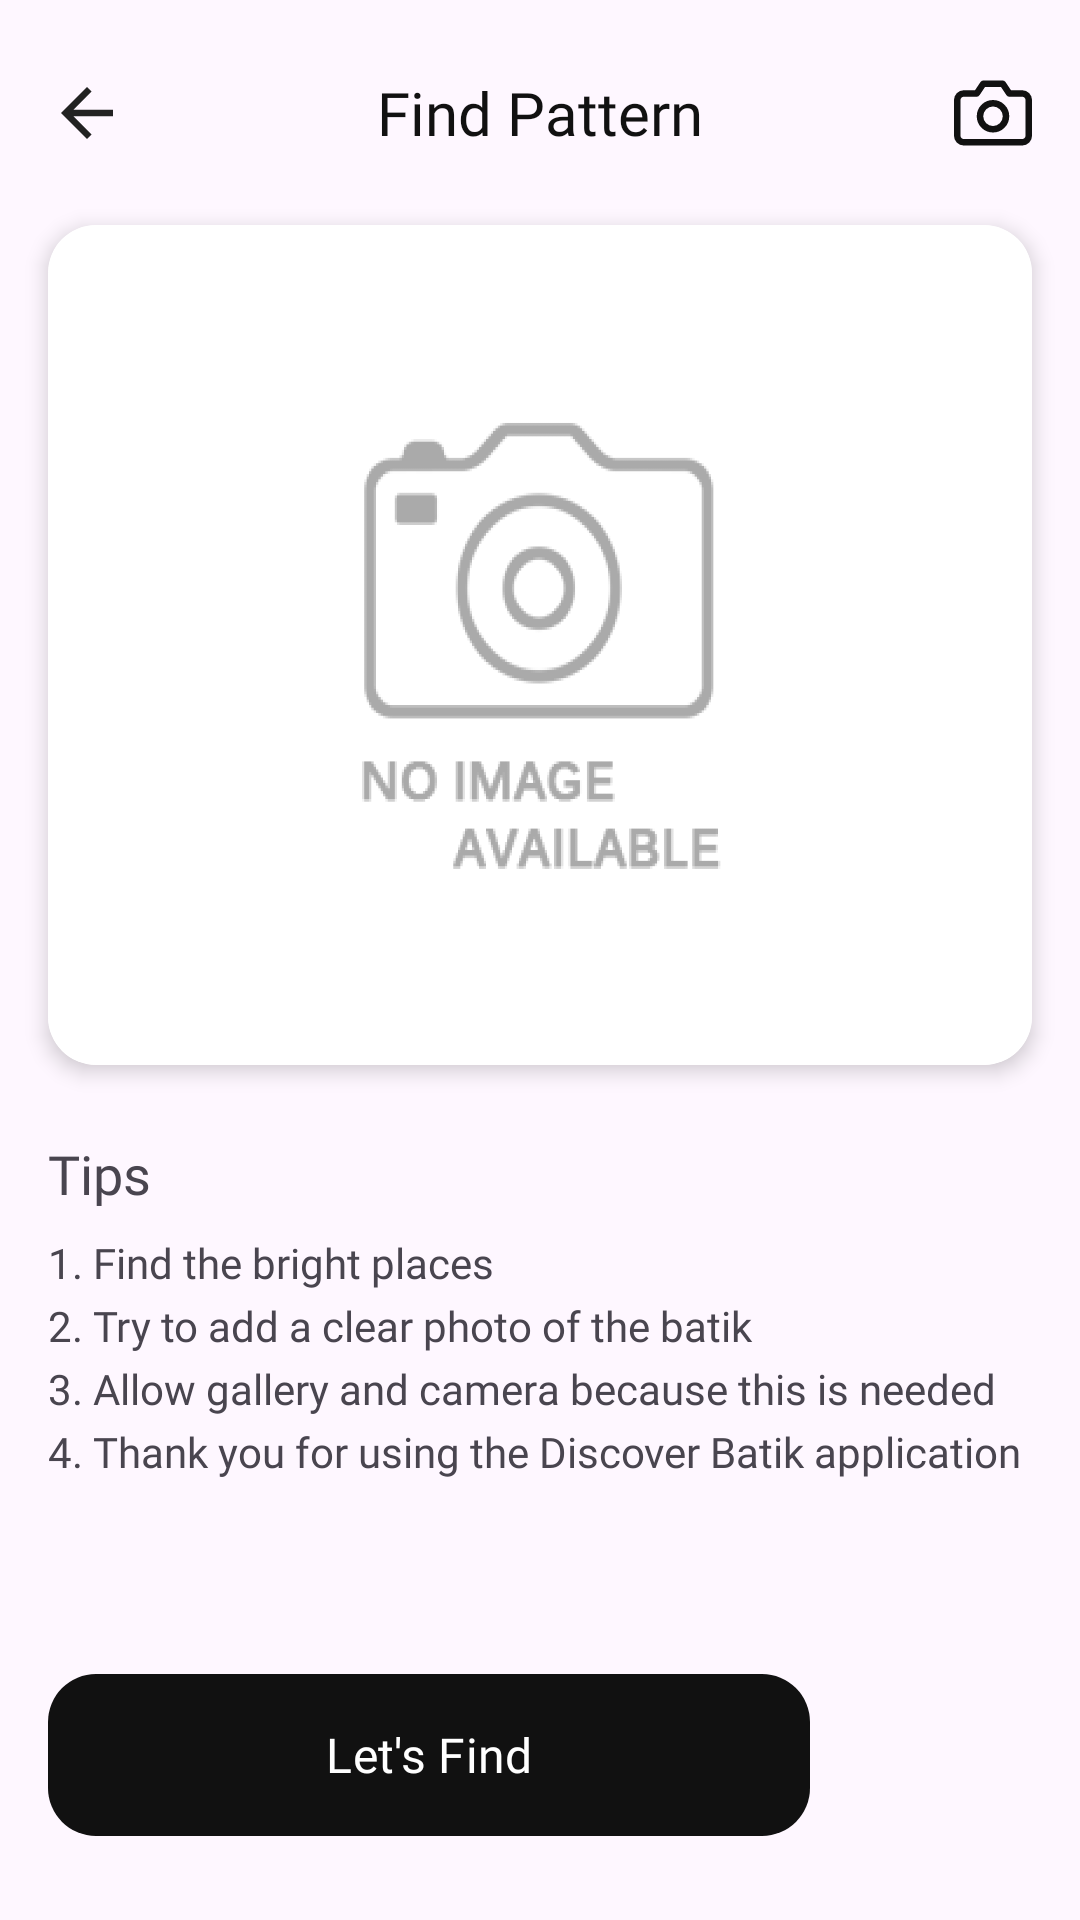

Icon bounding boxes for this 1080 × 1920 phone screenshot, format (x1, y1, x2, y2):
camera: (954, 80, 1032, 146)
